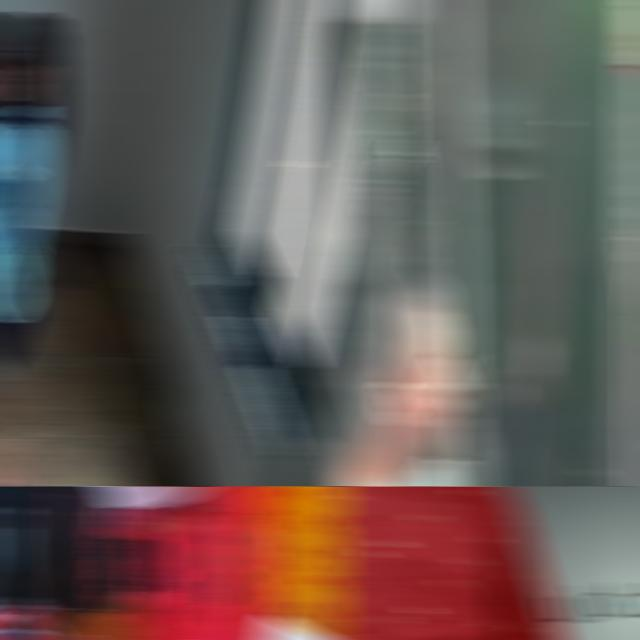Knife_Handle: (506, 333, 553, 486)
